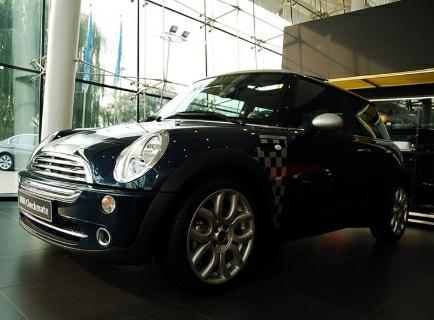MINI: (6, 52, 422, 290)
